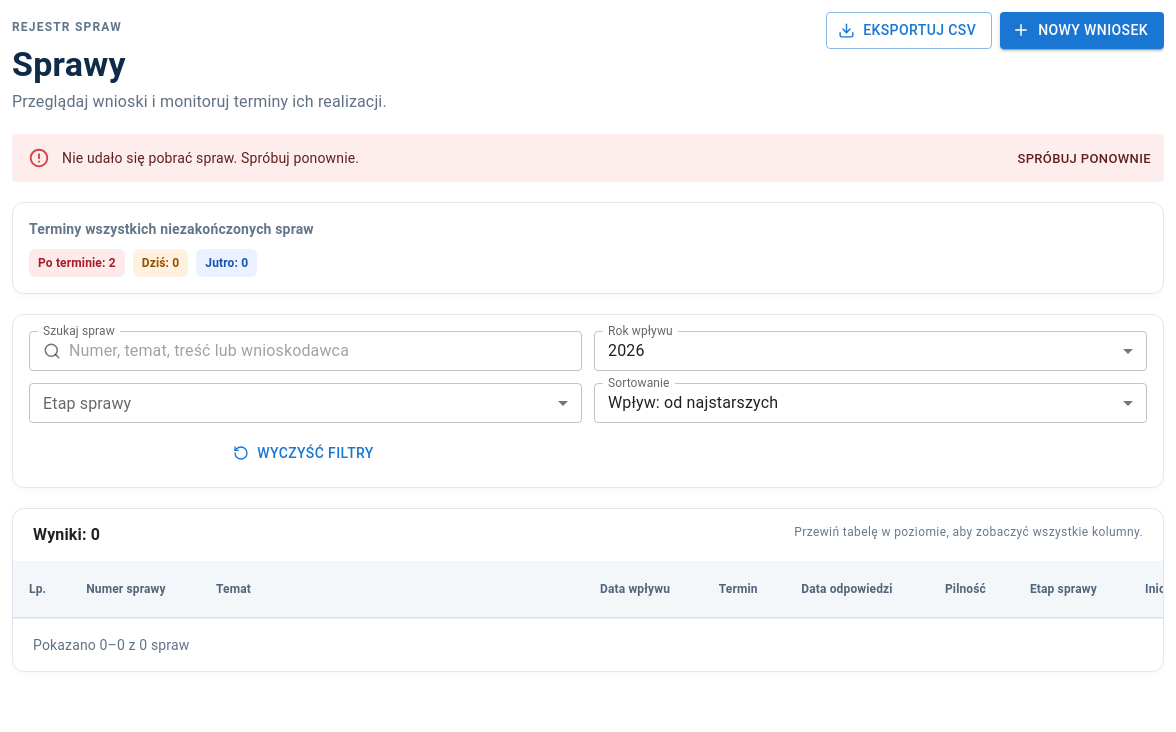
Test case: RegisterPage › shows an error with a retry action when loading fails
The width and height of the screenshot is (1176, 732).
Check: the message shows "Nie udało się pobrać spraw", box 62,150 -> 359,166
Step 1. Click the button "Spróbuj ponownie" → x=1084, y=159, box 1012,144 -> 1156,175
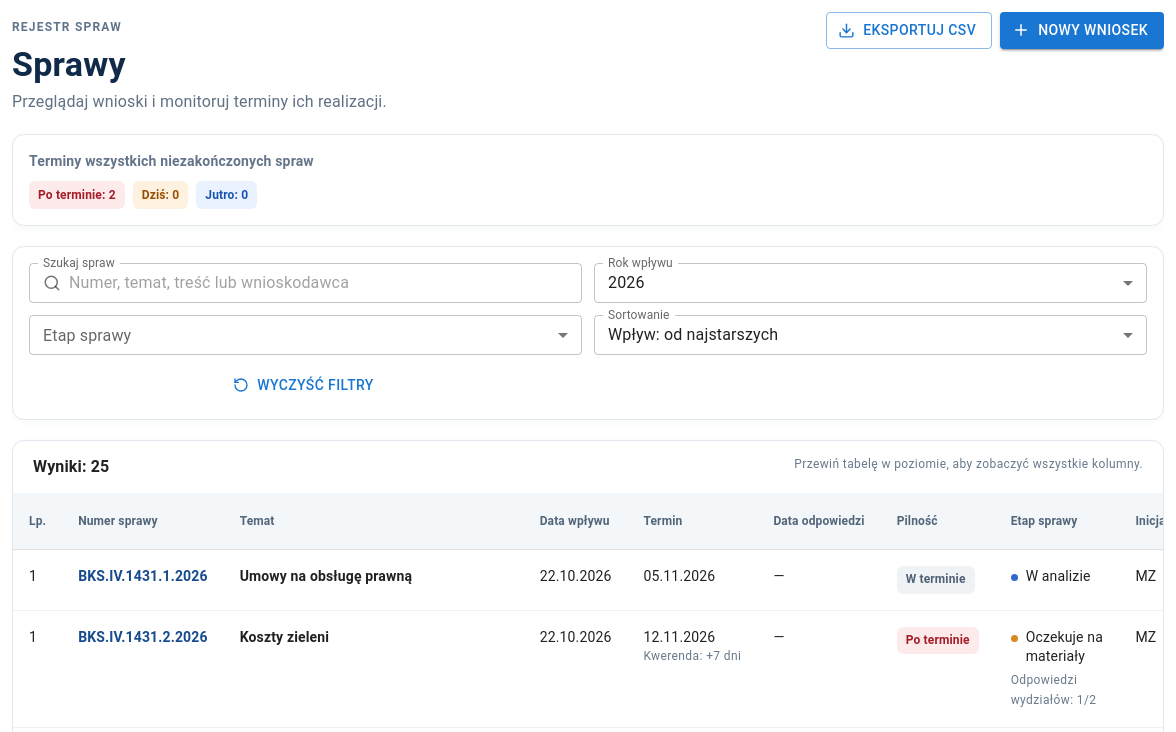
Check: the link "BKS.IV.1431.1.2026" is shown, box 78,568 -> 208,584
